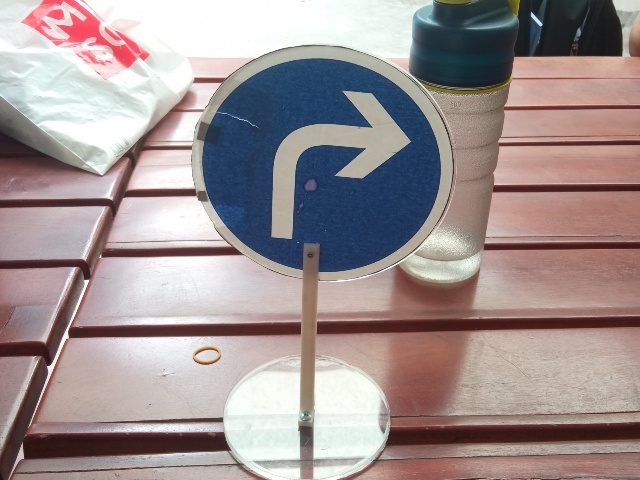Right_Sign: (191, 46, 454, 282)
